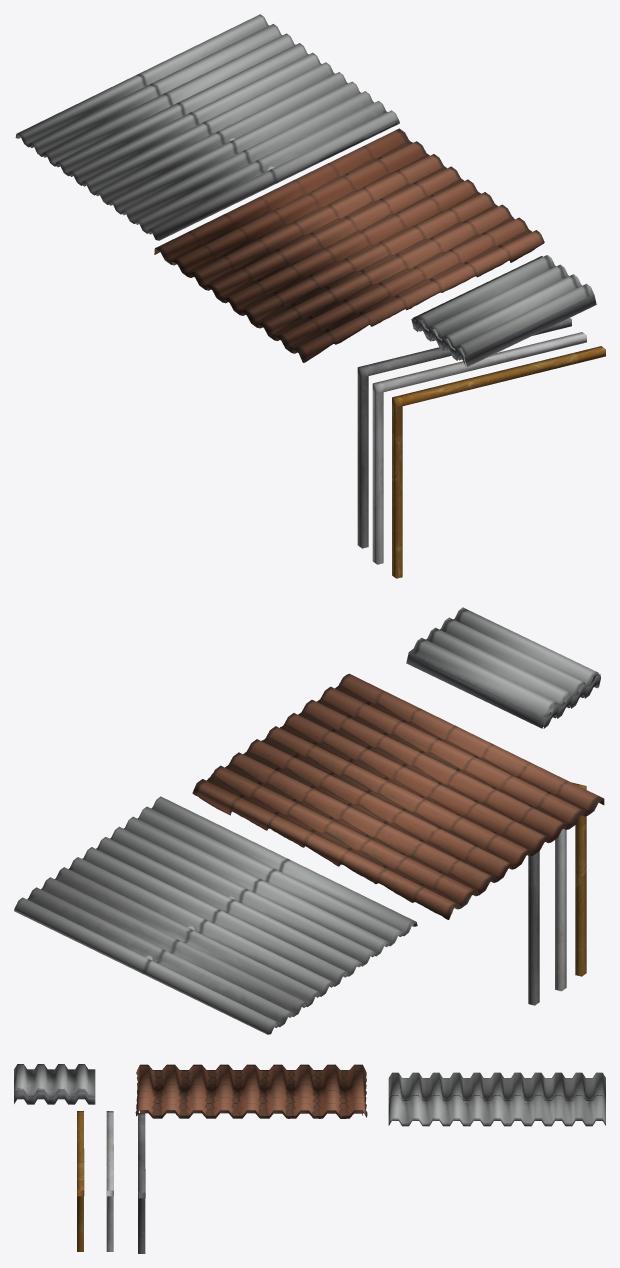
Rendered from telhado _mod.fbx.
3 views of the same model, one above another, from view 1: azimuth 30°, elevation 25°; view 2: azimuth 150°, elevation 25°; view 3: azimuth 270°, elevation 25° (orthographic). The views are drawn at different scales.
Visible parts, largest first — view 1: Cube.002, Cube.003, Cube.001, Cube.005, Cube.004, Cube.006; view 2: Cube.002, Cube.003, Cube.001, Cube.004, Cube.005, Cube.006; view 3: Cube.002, Cube.003, Cube.001, Cube.006, Cube.005, Cube.004.
Boxes of the visible parts, left/top/right/bottom form: Cube.002: left=154, top=128, right=544, bottom=362; Cube.003: left=15, top=14, right=399, bottom=240; Cube.001: left=411, top=255, right=596, bottom=366; Cube.005: left=372, top=332, right=586, bottom=564; Cube.004: left=392, top=346, right=605, bottom=578; Cube.006: left=357, top=318, right=571, bottom=548; Cube.002: left=192, top=673, right=604, bottom=919; Cube.003: left=14, top=796, right=417, bottom=1034; Cube.001: left=406, top=607, right=600, bottom=728; Cube.004: left=571, top=782, right=586, bottom=976; Cube.005: left=555, top=829, right=566, bottom=991; Cube.006: left=528, top=851, right=539, bottom=1005; Cube.002: left=135, top=1064, right=367, bottom=1118; Cube.003: left=388, top=1072, right=605, bottom=1126; Cube.001: left=14, top=1064, right=95, bottom=1104; Cube.006: left=138, top=1113, right=145, bottom=1253; Cube.005: left=106, top=1111, right=113, bottom=1251; Cube.004: left=77, top=1111, right=84, bottom=1251.
Size of the model in its own units: 527 by 521 by 1276.
